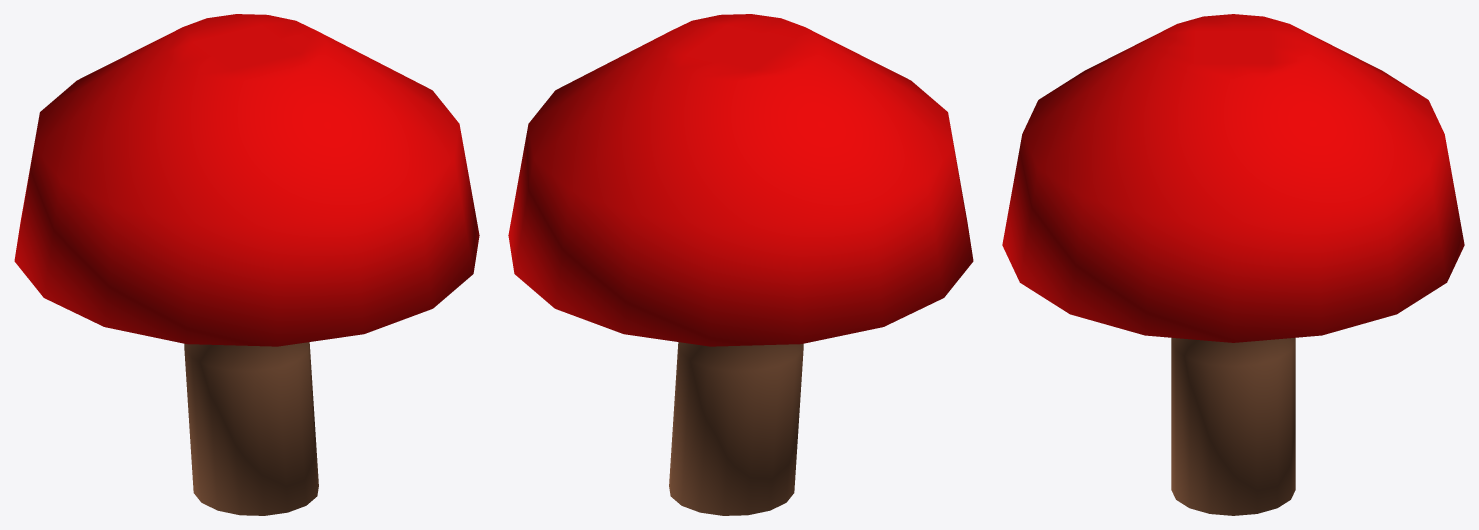
Rendered from Mushroom 4.fbx.
3 renders of one model, left to right at view 1: azimuth 30°, elevation 25°; view 2: azimuth 150°, elevation 25°; view 3: azimuth 270°, elevation 25°, orthographic.
Visible parts, largest first — view 1: Cube.019; view 2: Cube.019; view 3: Cube.019.
Part boxes in pixels (x1,y1,x2,y2): Cube.019: (14, 14, 479, 515); Cube.019: (508, 14, 973, 515); Cube.019: (1002, 14, 1464, 515).
Bounding box in the file's own units: 34.58 × 36.11 × 34.58.
